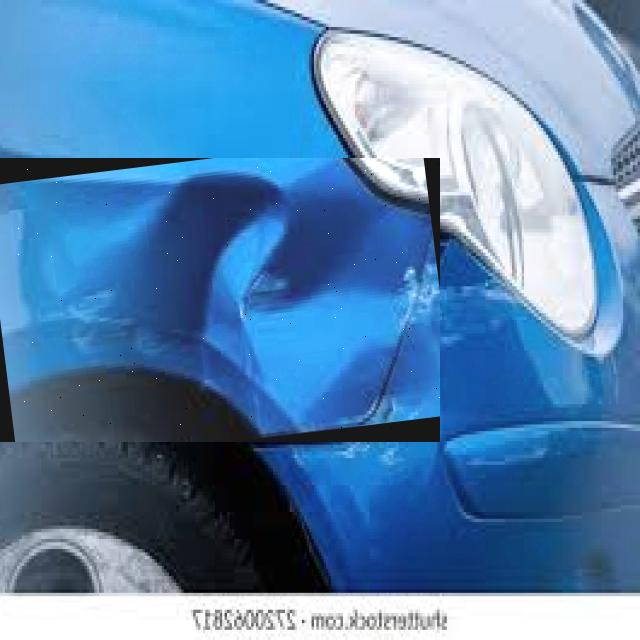Dent: (0, 166, 430, 435)
